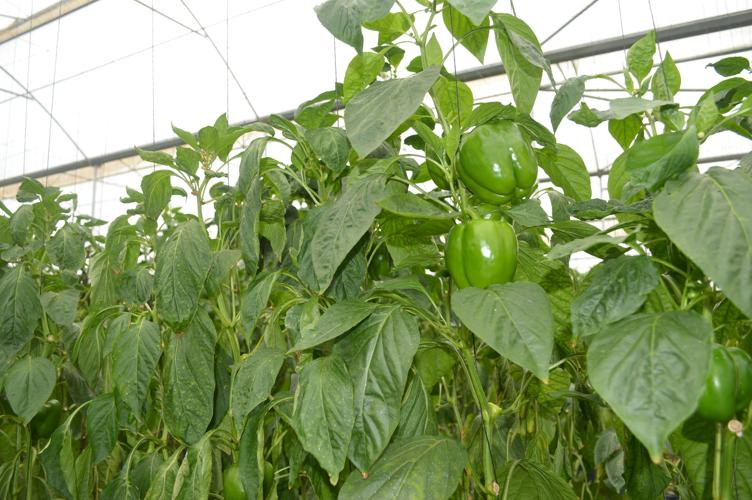BellPepper: (449, 122, 535, 204), (439, 220, 520, 291), (685, 345, 747, 424)
